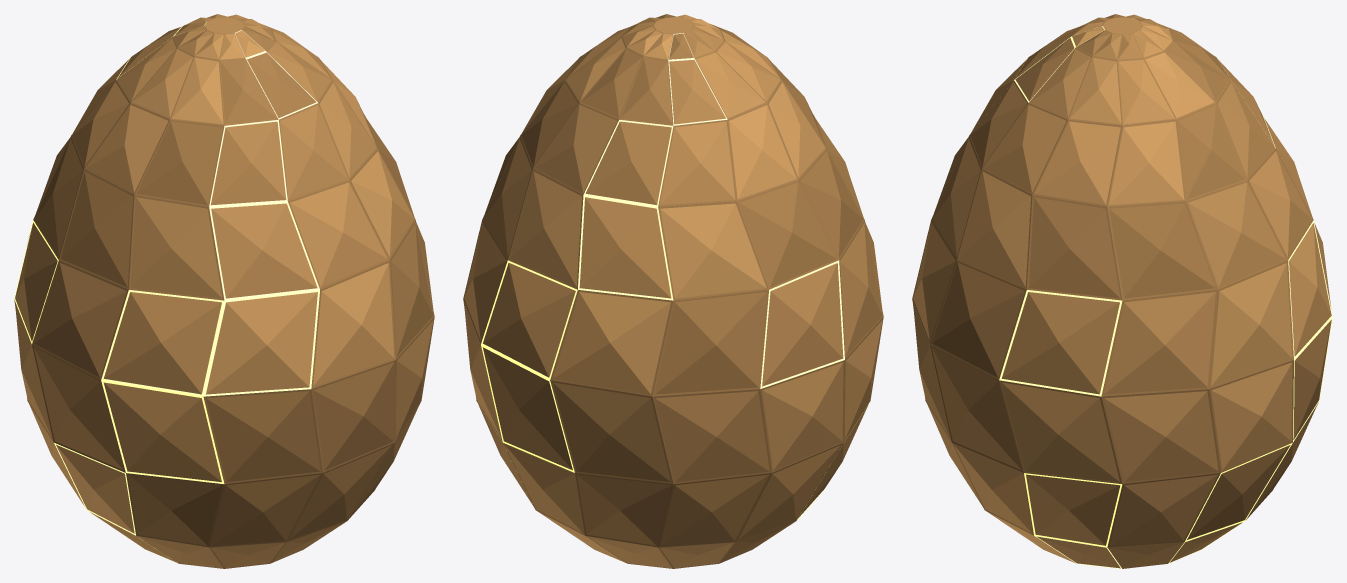
File: earth_dragon_egg.glb
The picture shows the model from 3 angles, left to right: view 1: azimuth 30°, elevation 25°; view 2: azimuth 150°, elevation 25°; view 3: azimuth 270°, elevation 25°; orthographic projection.
Bounding box in the file's own units: 0.7363 × 0.975 × 0.7363.
